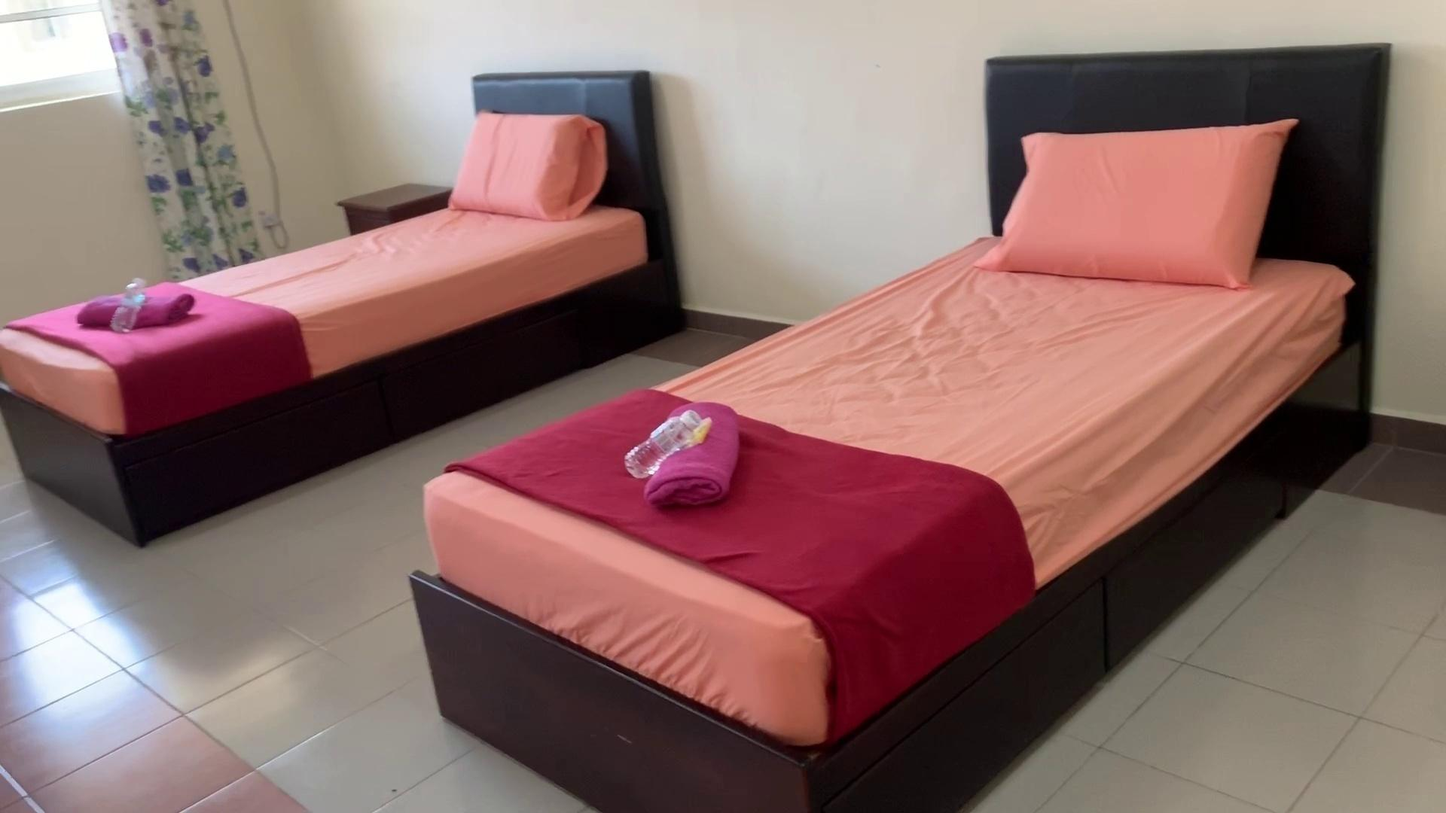bed: (404, 62, 1424, 813), (0, 26, 681, 546)
table: (330, 159, 446, 235)
